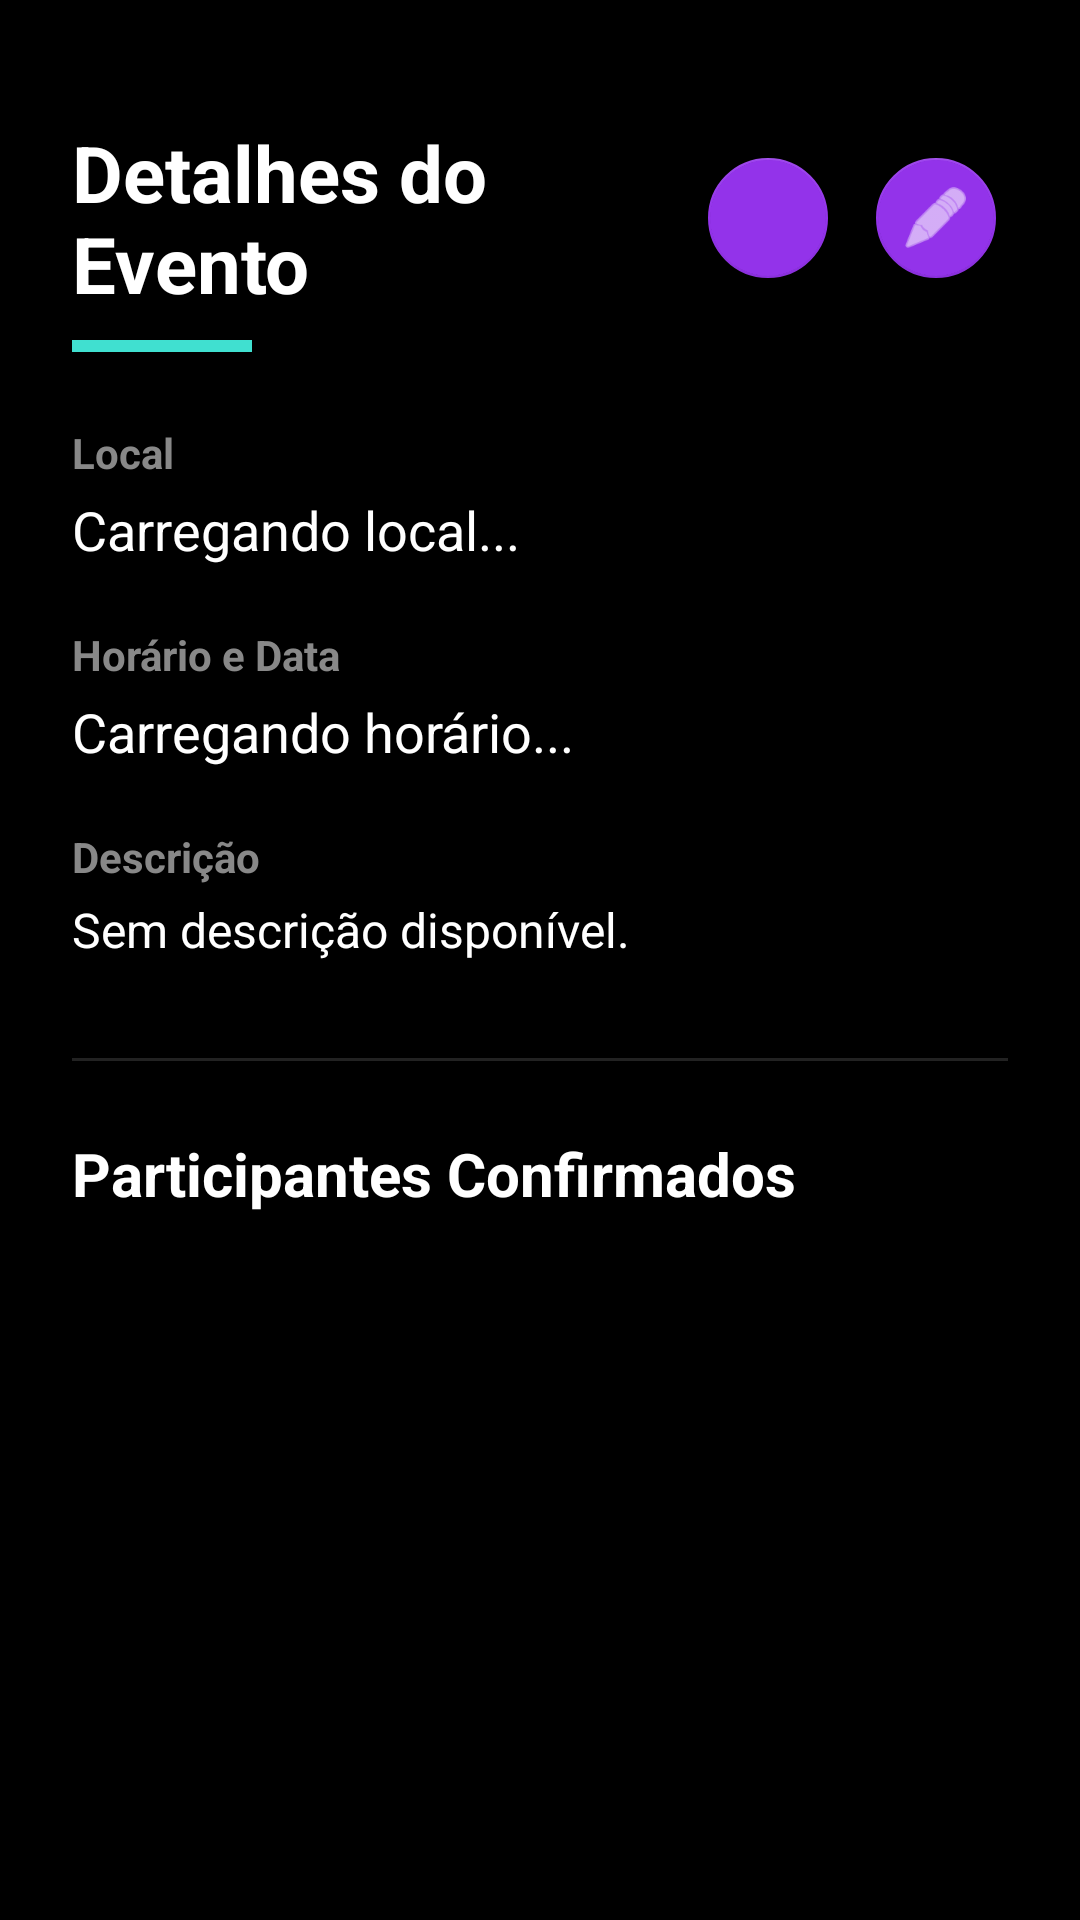

Where to tap for icons on this 1080 x 1920 app screen, as [x,y]:
Editar Evento: [936,218]
